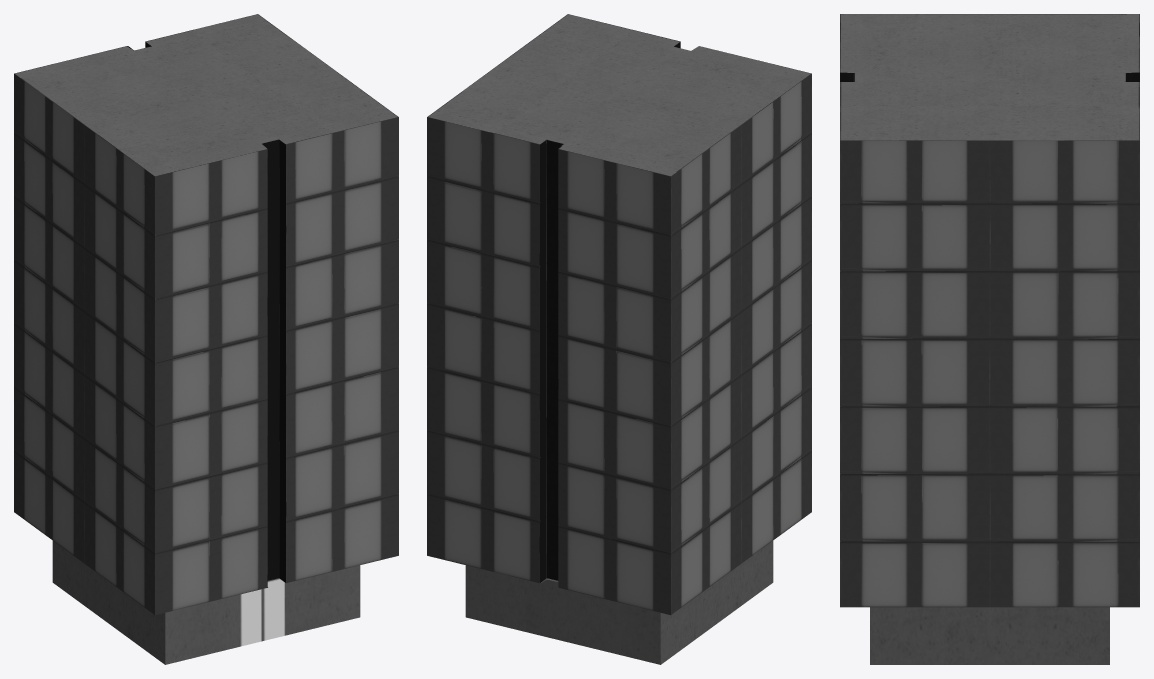
File: bighouse.obj
3 views of the same model, side by side, from view 1: azimuth 30°, elevation 25°; view 2: azimuth 150°, elevation 25°; view 3: azimuth 270°, elevation 25° (orthographic). The views are drawn at different scales.
Visible parts, largest first — view 1: Cube.001_Cube.002; view 2: Cube.001_Cube.002; view 3: Cube.001_Cube.002.
Part boxes in pixels (x1,y1,x2,y2): Cube.001_Cube.002: (14, 14, 398, 664); Cube.001_Cube.002: (427, 14, 811, 664); Cube.001_Cube.002: (840, 14, 1139, 664).
Bounding box in the file's own units: 3.98 × 7.86 × 3.98.
1 material, 1 textured.
